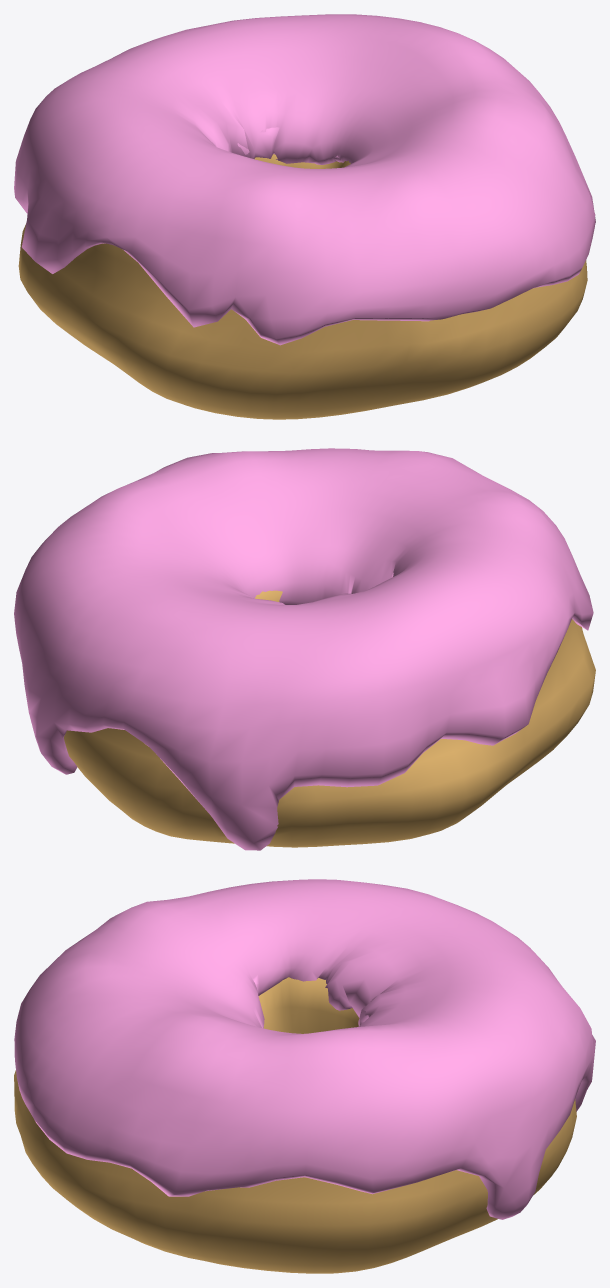
File: donut.glb
3 renders of one model, top to bottom at view 1: azimuth 30°, elevation 25°; view 2: azimuth 150°, elevation 25°; view 3: azimuth 270°, elevation 25°, orthographic. The views are drawn at different scales.
Parts seen in each view (by area): view 1: Icing, Doughnut; view 2: Icing, Doughnut; view 3: Icing, Doughnut.
Boxes of the visible parts, <box> form: Icing: <box>14,14,595,345</box>; Doughnut: <box>18,154,587,419</box>; Icing: <box>14,448,593,850</box>; Doughnut: <box>64,590,595,847</box>; Icing: <box>14,879,595,1219</box>; Doughnut: <box>14,977,576,1273</box>.
Size of what is drawn, in the model's own units: 0.0916 by 0.0441 by 0.0976.
